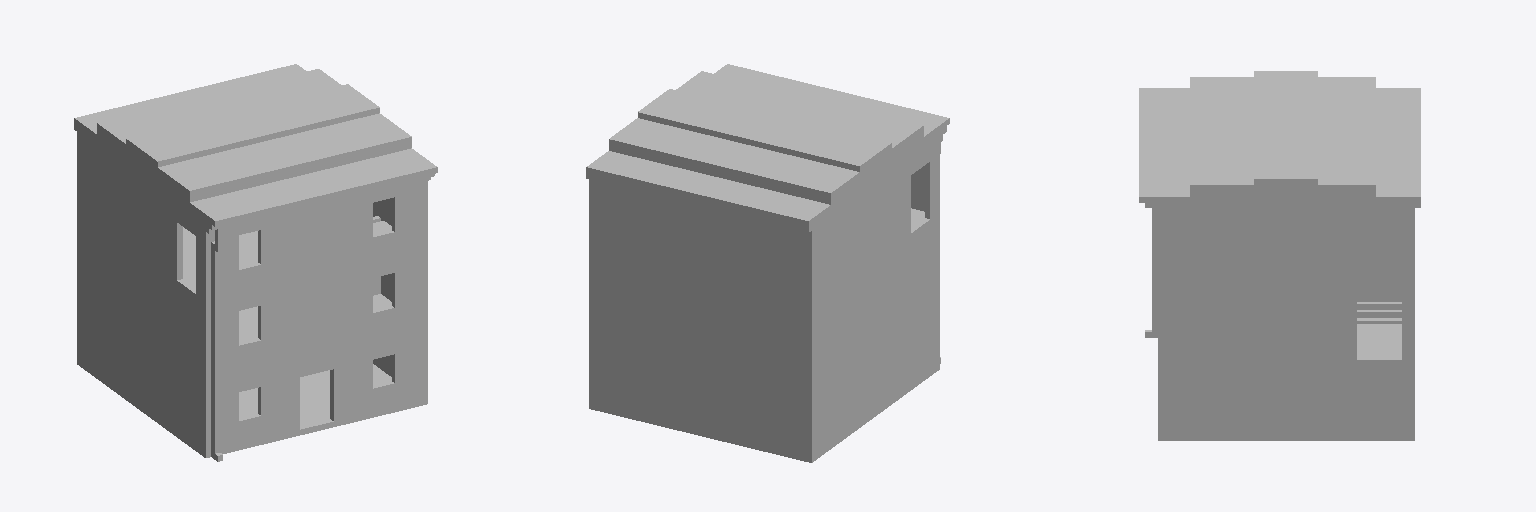
Rendered from immob cordioli.obj.
3 views of the same model, side by side, from view 1: azimuth 30°, elevation 25°; view 2: azimuth 150°, elevation 25°; view 3: azimuth 270°, elevation 25° (orthographic).
Visible parts, largest first — view 1: object 1; view 2: object 1; view 3: object 1.
Part boxes in pixels (bbox=[...]): object 1: bbox=[74, 64, 437, 461]; object 1: bbox=[586, 64, 949, 462]; object 1: bbox=[1139, 71, 1420, 440].
Bounding box in the file's own units: 4 × 4.5 × 4.4.